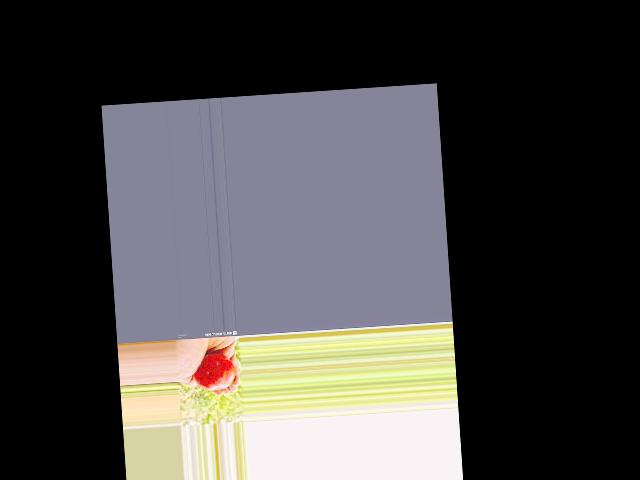tomato: (192, 352, 235, 391)
